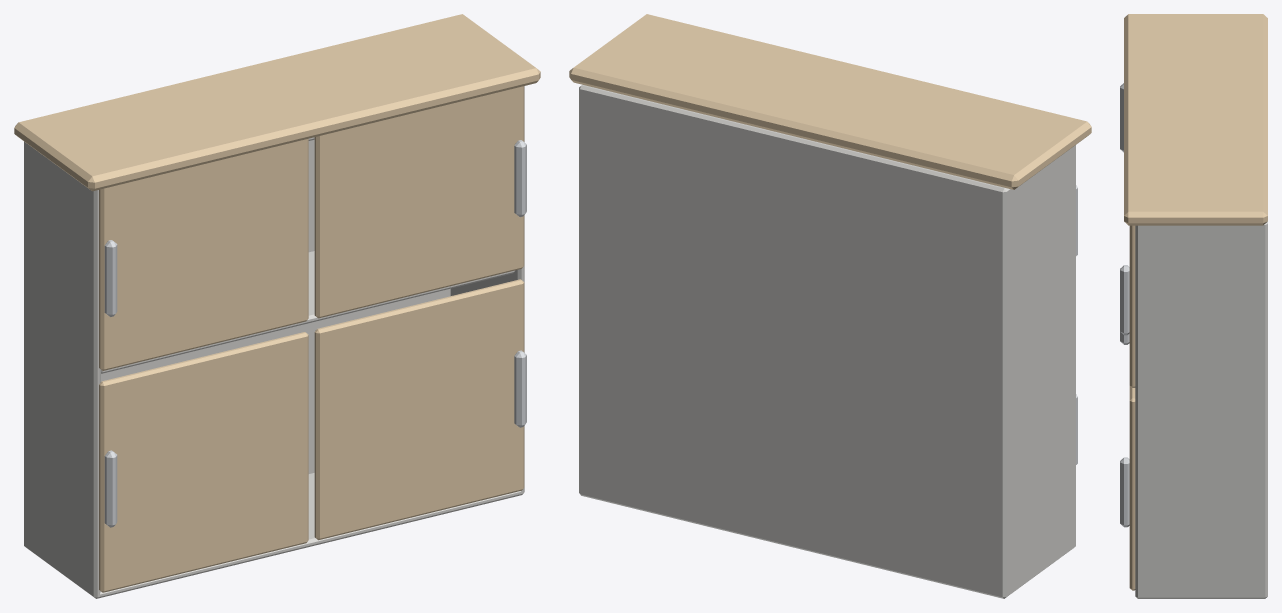
The model's file is CeilingHeightCupboards.glb.
The picture shows the model from 3 angles, left to right: view 1: azimuth 30°, elevation 25°; view 2: azimuth 150°, elevation 25°; view 3: azimuth 270°, elevation 25°; orthographic projection. The views are drawn at different scales.
Visible parts, largest first — view 1: CeilingHeightCupboards_Body; view 2: CeilingHeightCupboards_Body; view 3: CeilingHeightCupboards_Body.
Boxes of the visible parts, bbox=[...] form: CeilingHeightCupboards_Body: bbox=[14, 14, 540, 598]; CeilingHeightCupboards_Body: bbox=[569, 14, 1091, 598]; CeilingHeightCupboards_Body: bbox=[1120, 14, 1267, 598].
Size of the model in its own units: 1.26 by 1.14 by 0.39.
